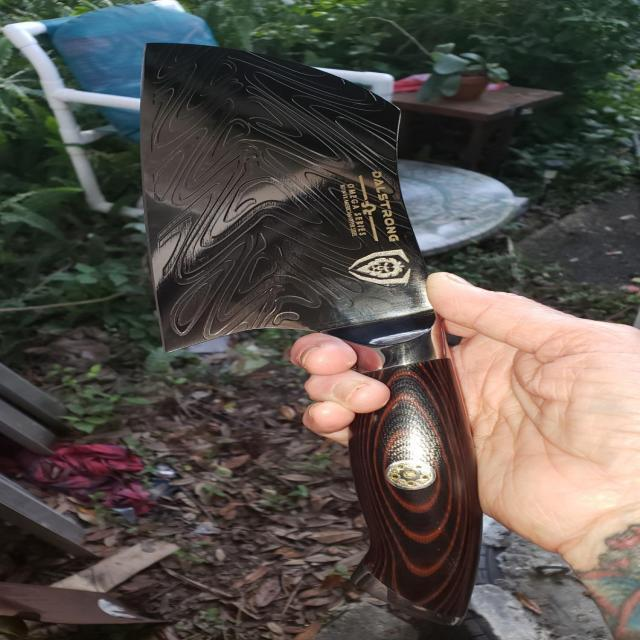cleaver: (138, 41, 636, 612)
